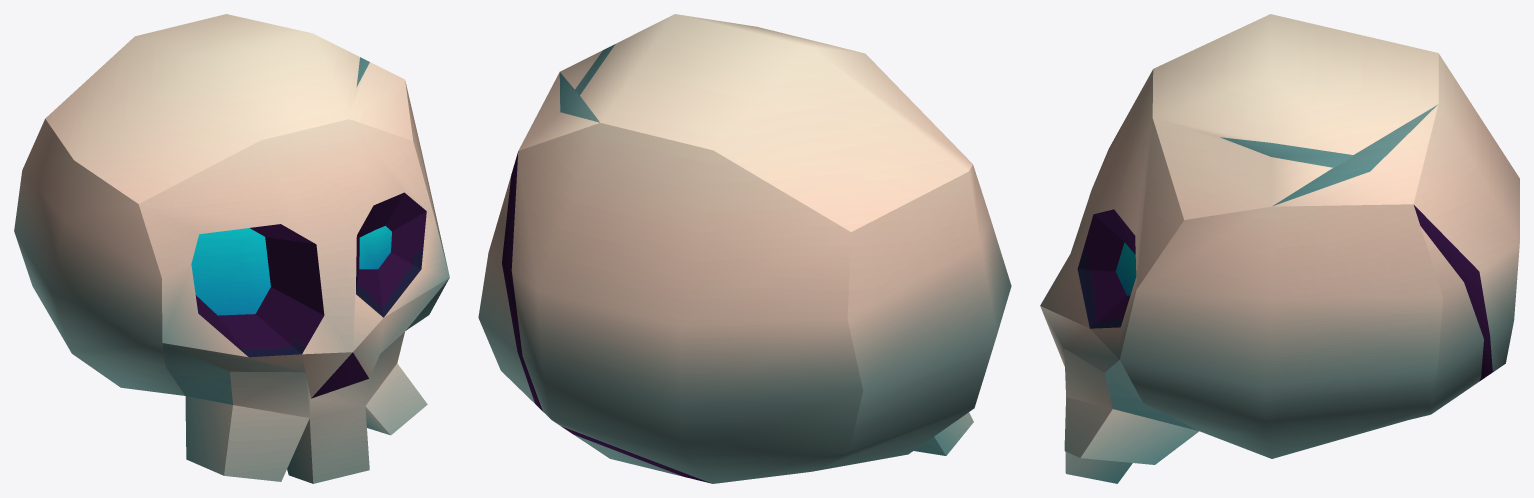
File: Skull2.fbx
3 renders of one model, left to right at view 1: azimuth 30°, elevation 25°; view 2: azimuth 150°, elevation 25°; view 3: azimuth 270°, elevation 25°, orthographic. The views are drawn at different scales.
Visible parts, largest first — view 1: pCube25; view 2: pCube25; view 3: pCube25.
Part boxes in pixels (<box>): pCube25: <box>14,14,449,483</box>; pCube25: <box>478,14,1011,483</box>; pCube25: <box>1040,14,1519,483</box>.
Bounding box in the file's own units: 1.71 × 1.59 × 1.62.
